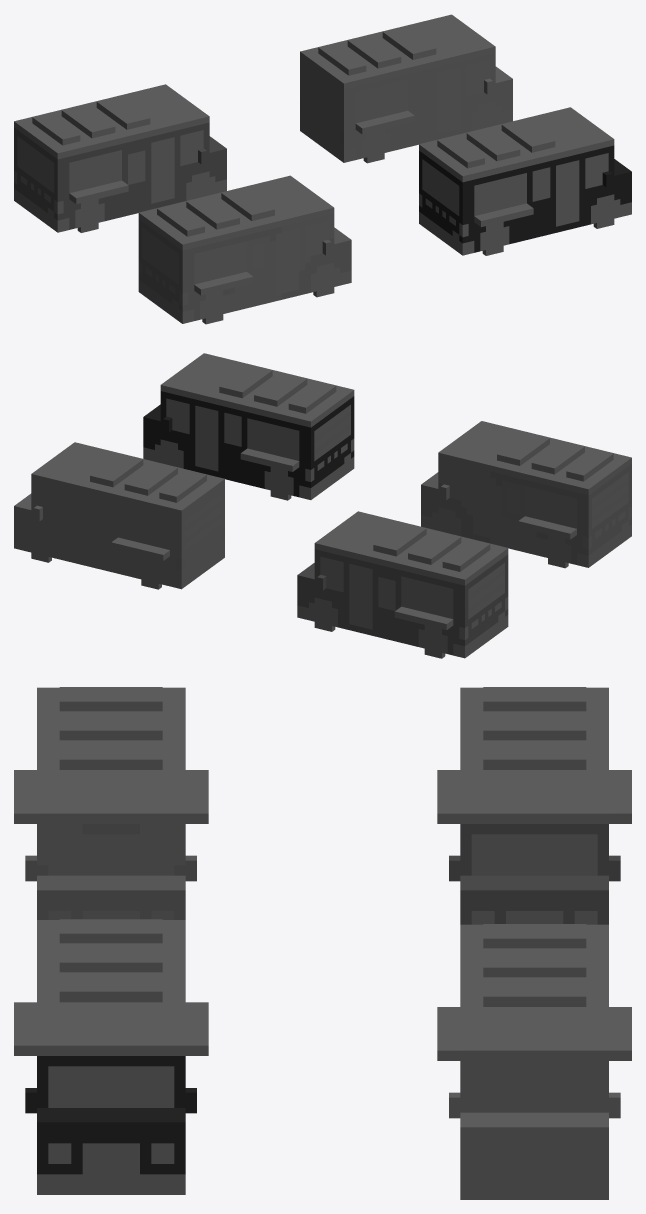
File: scene_lunch.obj
3 views of the same model, one above another, from view 1: azimuth 30°, elevation 25°; view 2: azimuth 150°, elevation 25°; view 3: azimuth 270°, elevation 25° (orthographic). The views are drawn at different scales.
Bounding box in the file's own units: 78 × 15 × 54.
